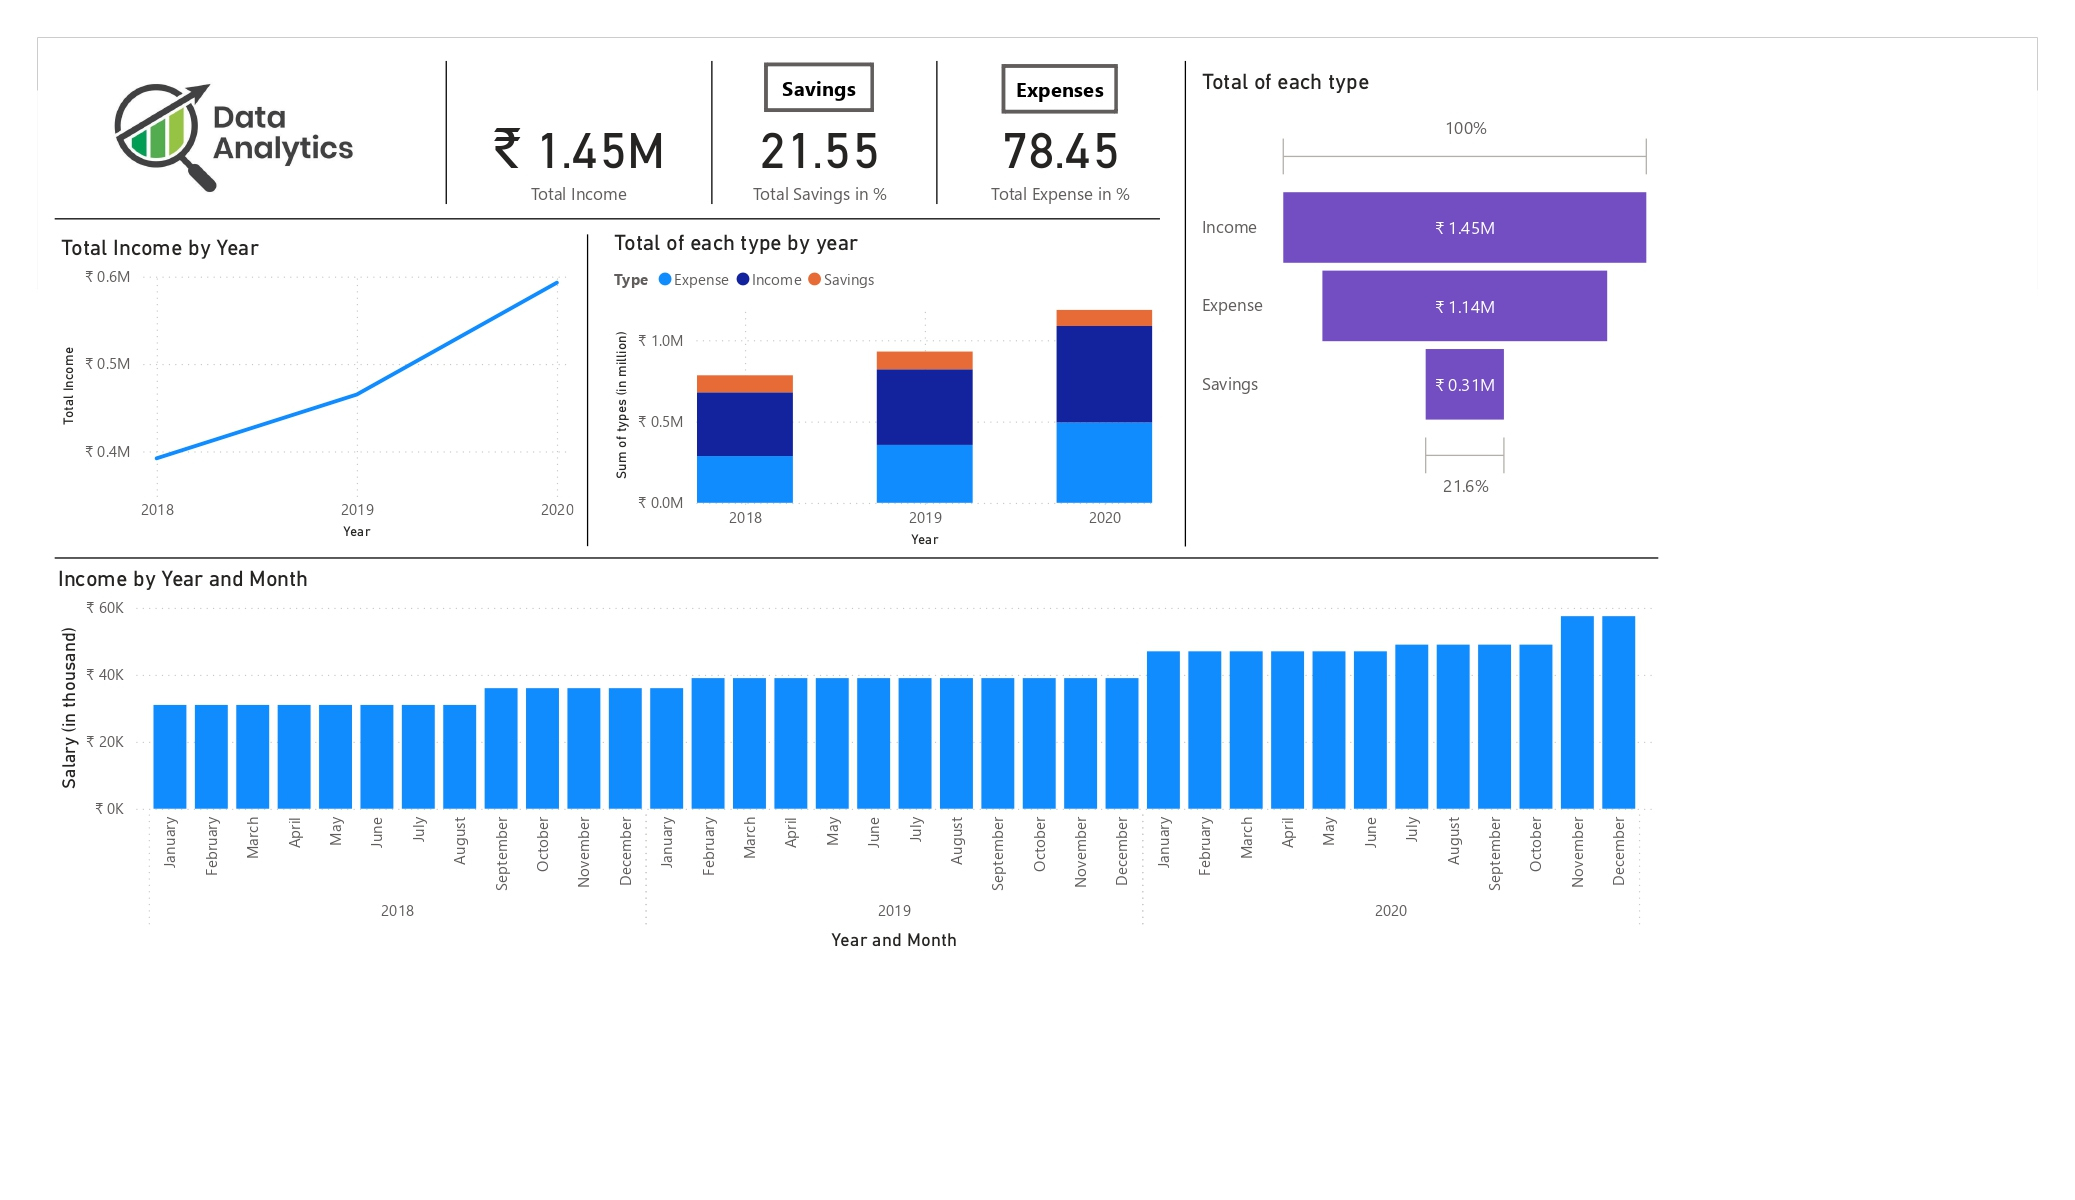

This screenshot's page, from the dashboard's own definition file:
{"tool":"powerbi","page":{"name":"Main","canvas":[1280,720],"ordinal":0},"visuals":[{"type":"image","box":[0,2.5,307.4,142],"z":0},{"type":"card","fields":{"Values":["FinData.Total Income"]},"box":[319.8,45.7,208.6,96.3],"z":1000},{"type":"card","fields":{"Values":["FinData.Total Expense in %"]},"box":[696.3,45.7,209.9,96.3],"z":2000},{"type":"card","fields":{"Values":["FinData.Total Savings in %"]},"box":[507.4,45.7,209.9,96.3],"z":3000},{"type":"funnel","title":"Total of each type","fields":{"Category":["FinData.Type"],"Y":["Sum(FinData.Value)"]},"box":[906.2,24.7,363,351.9],"z":4000},{"type":"columnChart","title":"Total of each type by year","fields":{"Category":["FinData.Year"],"Y":["Sum(FinData.Value)"],"Series":["FinData.Type"]},"box":[446.2,150,431.2,253.8],"z":5000},{"type":"columnChart","title":"Income by Year and Month","fields":{"Category":["FinData.Date.Variation.Date Hierarchy.Year","FinData.Date.Variation.Date Hierarchy.Month"],"Y":["FinData.Total Income"]},"box":[11.2,413.8,1257.5,306.2],"z":6000},{"type":"actionButton","box":[755,21.2,91.2,38.8],"z":7000},{"type":"actionButton","box":[568.8,20,86.2,38.8],"z":8000},{"type":"shape","box":[879,18.5,38.3,380.2],"z":9000},{"type":"shape","box":[13.6,135.8,865.4,12.3],"z":10000},{"type":"shape","box":[691.4,18.5,25.9,112.3],"z":11000},{"type":"shape","box":[514.8,18.5,25.9,112.3],"z":12000},{"type":"shape","box":[307.4,18.5,25.9,112.3],"z":13000},{"type":"shape","box":[424.7,154.3,12.3,244.4],"z":14000},{"type":"shape","box":[13.8,401.2,1255,12.5],"z":15000},{"type":"lineChart","fields":{"Y":["FinData.Total Income"],"Category":["FinData.Date.Variation.Date Hierarchy.Year"]},"box":[14,154,411,244],"z":16000}]}

Visuals, with their boxes in screenshot pixels (x1, y1, x2, y2):
image: (38, 41, 518, 263)
card - FinData.Total Income: (537, 109, 863, 259)
card - FinData.Total Expense in %: (1125, 109, 1453, 259)
card - FinData.Total Savings in %: (830, 109, 1158, 259)
"Total of each type" funnel: (1453, 76, 2021, 626)
"Total of each type by year" columnChart: (735, 272, 1408, 668)
"Income by Year and Month" columnChart: (55, 684, 2020, 1162)
actionButton: (1217, 71, 1360, 131)
actionButton: (926, 69, 1061, 129)
shape: (1411, 66, 1471, 660)
shape: (59, 250, 1411, 269)
shape: (1118, 66, 1158, 242)
shape: (842, 66, 882, 242)
shape: (518, 66, 558, 242)
shape: (701, 279, 720, 660)
shape: (59, 664, 2020, 684)
lineChart - FinData.Total Income x FinData.Date.Variation.Date Hierarchy.Year: (59, 278, 702, 659)
